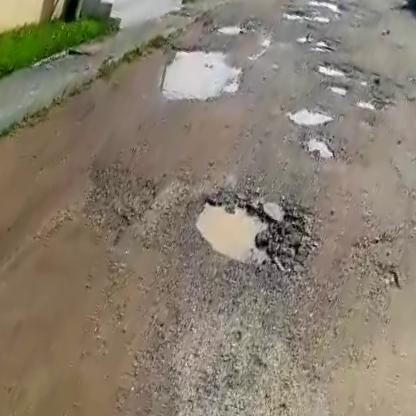pothole: (182, 176, 310, 280), (157, 31, 250, 117), (284, 96, 335, 134), (299, 130, 345, 167), (296, 27, 342, 57), (310, 55, 354, 82), (216, 20, 244, 40), (354, 97, 377, 115), (326, 81, 349, 98)
